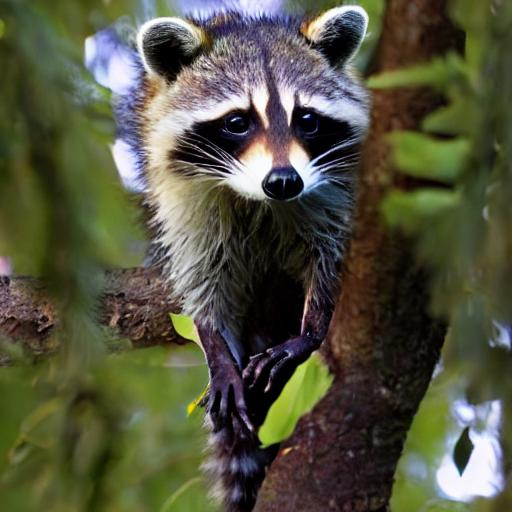raccoon: (126, 0, 378, 310)
